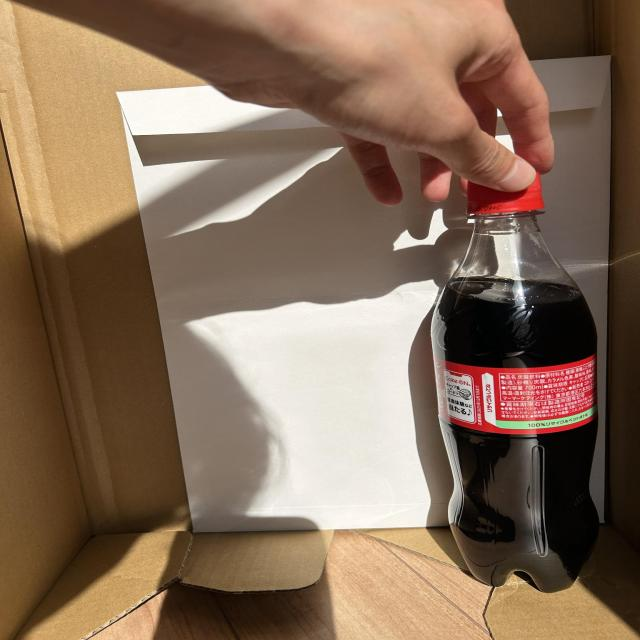high: (431, 174, 599, 592)
